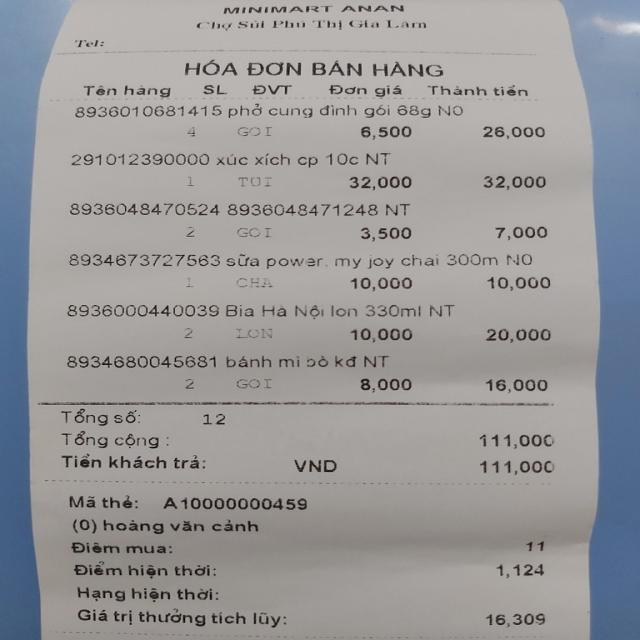Store_Name: (209, 0, 412, 16)
amount_number: (468, 426, 562, 449)
label_total: (57, 430, 163, 450)
